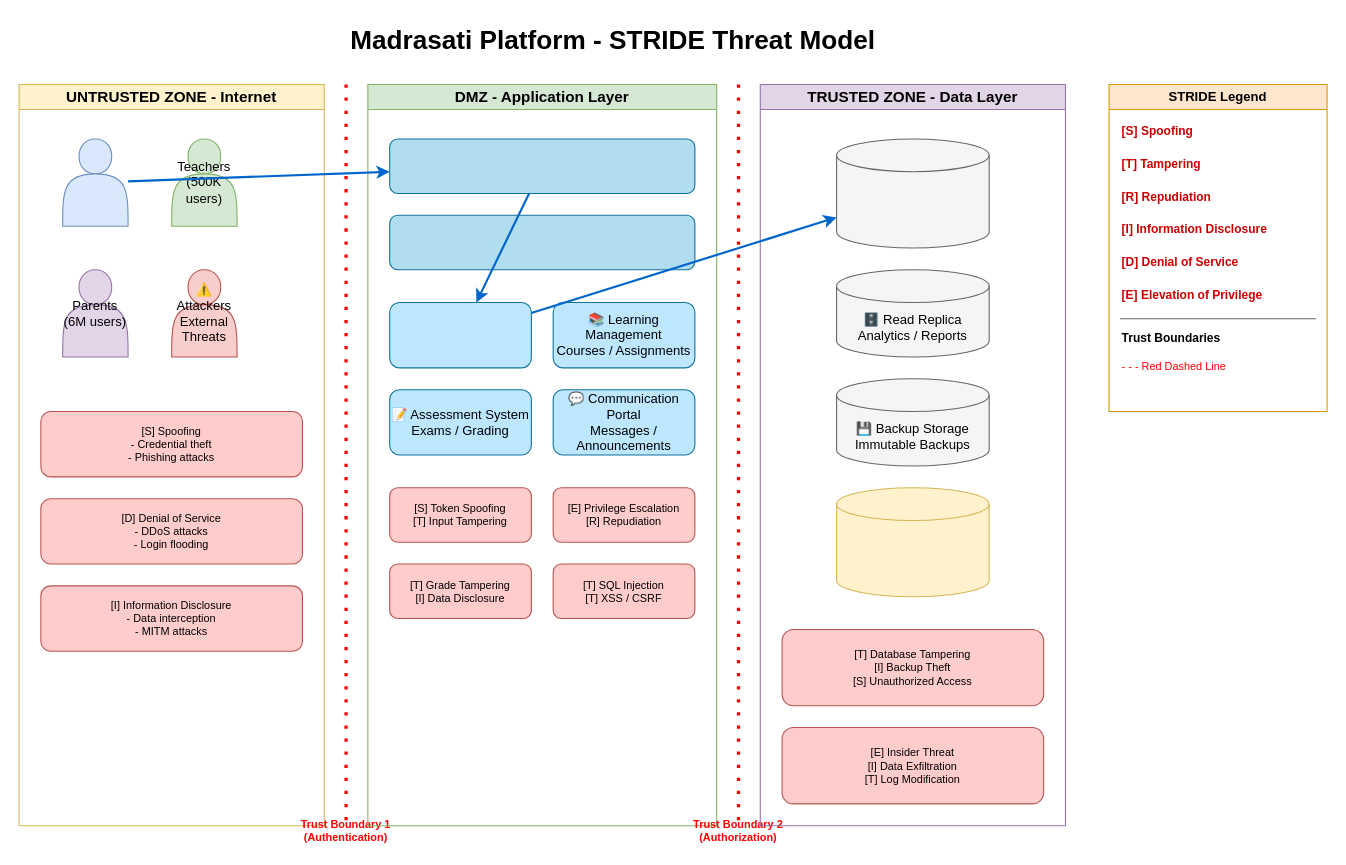
The diagram is 1346 pixels wide and 865 high, and some of its shapes have lost their labels. The centre of each missing label's shape, as x and y in pixels:
Students (6M users): [95,182]
⚖️ Load Balancer SSL Termination: [542,242]
📋 Audit Logs Write-Once Storage SIEM Integration: [912,542]
🔐 Authentication Service OAuth 2.0 / MFA: [460,334]
🗄️ Primary Database Student Records / Grades Encrypted at Rest: [912,193]
🛡️ WAF / CDN DDoS Protection: [542,165]
